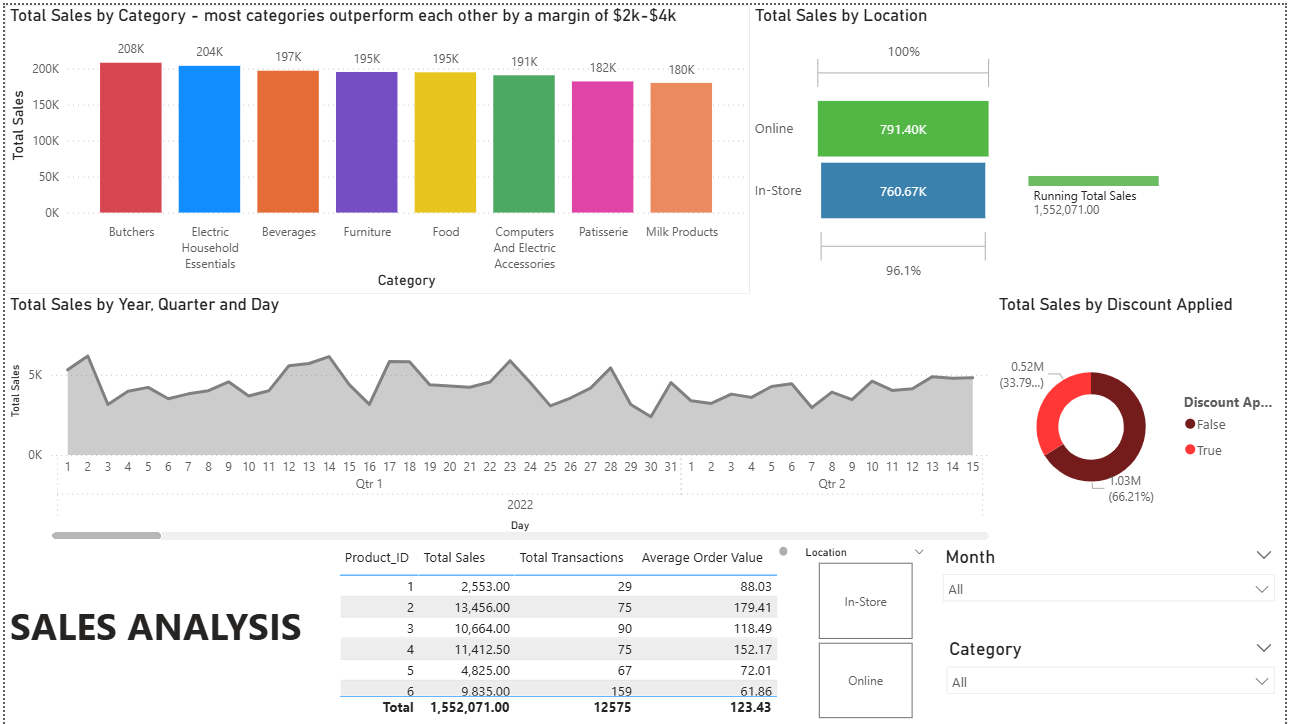

The page's visual inventory and layout, read from the dashboard file:
{"tool":"powerbi","page":{"name":"Sales Analysis","canvas":[1280,720],"ordinal":1},"visuals":[{"type":"clusteredColumnChart","fields":{"Category":["dim_product.Category"],"Y":["_Measures.Total Sales"]},"box":[10,0,400,289],"z":0},{"type":"clusteredBarChart","fields":{"Category":["dim_location.Location"],"Y":["_Measures.Total Sales"]},"box":[451.6,0,400,289],"z":1000},{"type":"lineChart","fields":{"Category":["dim_date.Date.Variation.Date Hierarchy.Year","dim_date.Date.Variation.Date Hierarchy.Quarter","dim_date.Date.Variation.Date Hierarchy.Month","dim_date.Date.Variation.Date Hierarchy.Day"],"Y":["_Measures.Total Sales"]},"box":[0,268.7,400,289],"z":2000},{"type":"tableEx","fields":{"Values":["dim_product.Product_ID","_Measures.Total Sales","_Measures.Total Transactions","_Measures.Average Order Value"]},"box":[451.6,256.3,400,289],"z":3000},{"type":"slicer","fields":{"Values":["dim_product.Category"]},"box":[1032.5,268.7,247.5,105.7],"z":4000},{"type":"slicer","fields":{"Values":["dim_location.Location"]},"box":[1032.5,374.4,247.5,92.1],"z":5000},{"type":"slicer","fields":{"Values":["dim_date.Month"]},"box":[1032.5,466.5,247.5,92.1],"z":6000},{"type":"lineChart","fields":{"Y":["_Measures.Running Total Sales"]},"box":[888.2,0,392,289],"z":7000},{"type":"textbox","box":[425.4,618.2,352,70.9],"z":8000}]}

Visuals, with their boxes in screenshot pixels (x1, y1, x2, y2), scaled from the page's 1280x720 canvas onto the 1290x724 screenshot:
clusteredColumnChart - dim_product.Category x _Measures.Total Sales: [left=10, top=0, right=413, bottom=291]
clusteredBarChart - dim_location.Location x _Measures.Total Sales: [left=455, top=0, right=858, bottom=291]
lineChart - dim_date.Date.Variation.Date Hierarchy.Year x dim_date.Date.Variation.Date Hierarchy.Quarter: [left=0, top=270, right=403, bottom=561]
tableEx - dim_product.Product_ID x _Measures.Total Sales: [left=455, top=258, right=858, bottom=548]
slicer - dim_product.Category: [left=1041, top=270, right=1289, bottom=376]
slicer - dim_location.Location: [left=1041, top=376, right=1289, bottom=469]
slicer - dim_date.Month: [left=1041, top=469, right=1289, bottom=562]
lineChart - _Measures.Running Total Sales: [left=895, top=0, right=1289, bottom=291]
textbox: [left=429, top=622, right=783, bottom=693]
